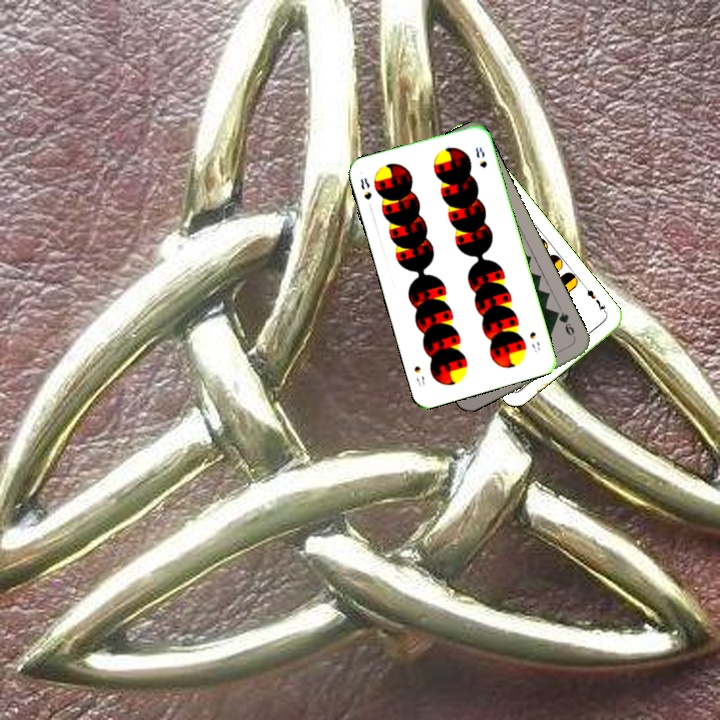E7: (581, 282, 610, 317)
G9: (550, 307, 578, 343)
S8: (356, 173, 374, 202), (525, 327, 542, 355)
